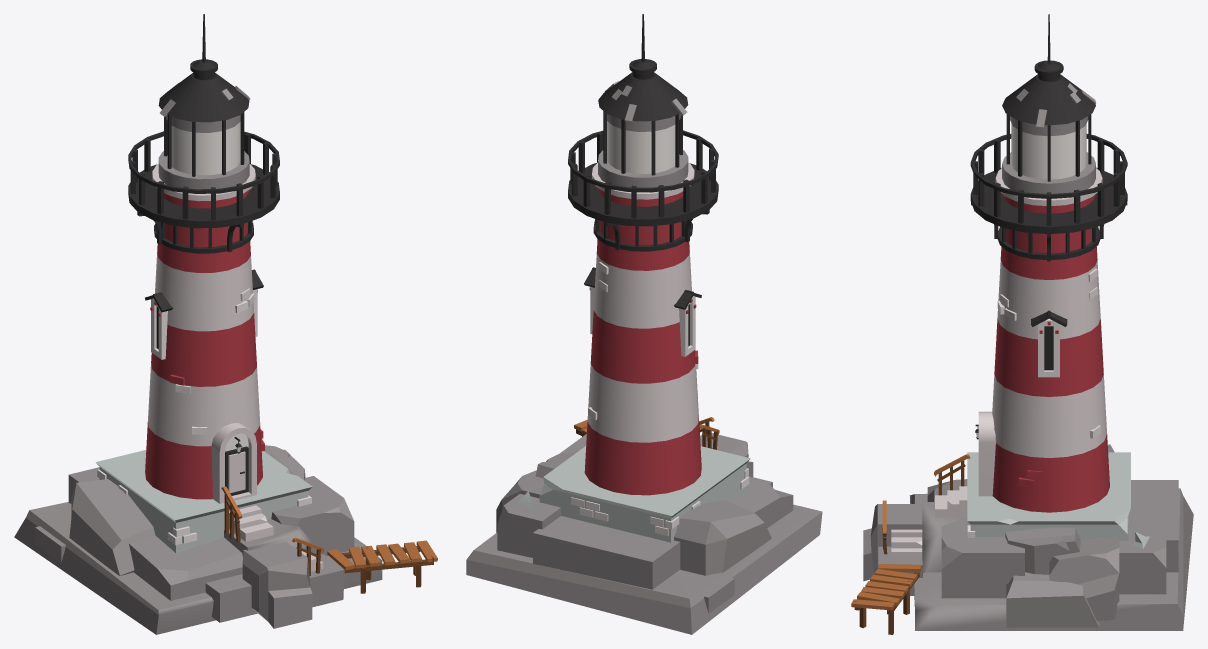
File: lighthouse.obj
The picture shows the model from 3 angles, left to right: view 1: azimuth 30°, elevation 25°; view 2: azimuth 150°, elevation 25°; view 3: azimuth 270°, elevation 25°; orthographic projection. The views are drawn at different scales.
Visible parts, largest first — view 1: Lighthouse1; view 2: Lighthouse1; view 3: Lighthouse1.
Part boxes in pixels (x1,y1,x2,y2): Lighthouse1: (14,14,437,634); Lighthouse1: (466,14,822,634); Lighthouse1: (851,14,1193,634).
Bounding box in the file's own units: 10.05 × 19.7 × 10.92.
1 material, 1 textured.
